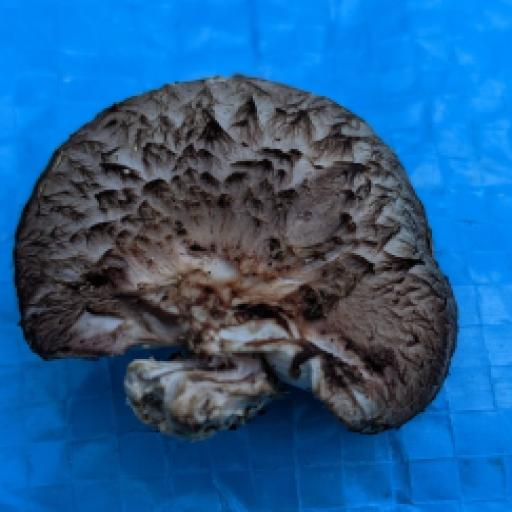Shiitake Mushroom: (9, 40, 497, 431)
